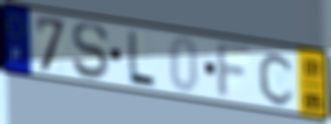0: (167, 35, 200, 96)
7: (34, 13, 68, 75)
C: (257, 50, 297, 108)
F: (215, 40, 256, 102)
L: (126, 28, 158, 90)
S: (70, 22, 110, 81)
